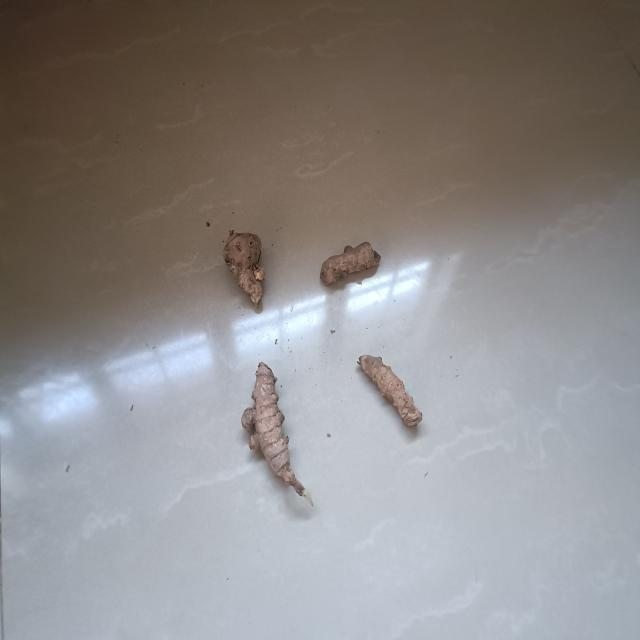ginger: (242, 361, 310, 500), (358, 349, 425, 429), (219, 227, 270, 310), (319, 240, 382, 289)
